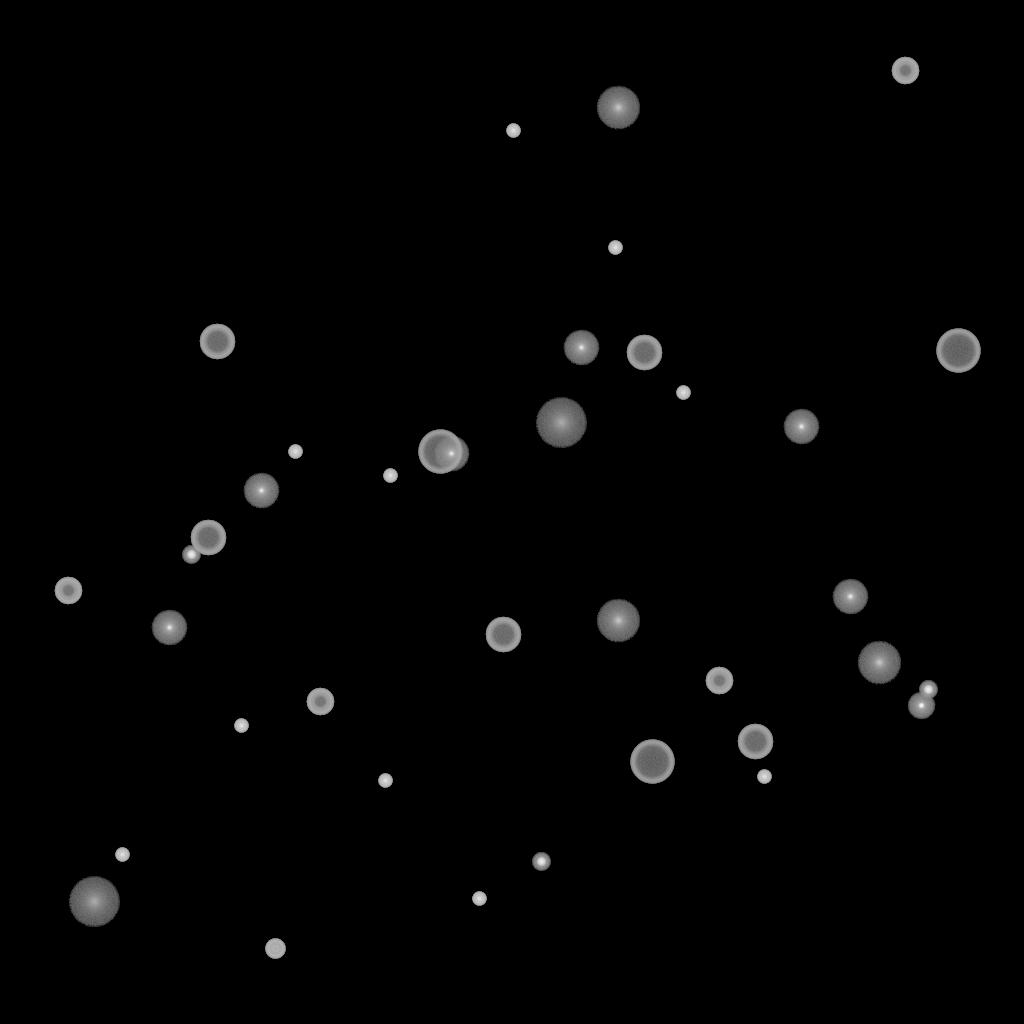depth:-10: (907, 692, 935, 720)
depth:-20: (919, 681, 937, 699), (182, 546, 200, 564), (532, 853, 550, 871)
depth:-30: (472, 892, 486, 906), (506, 124, 520, 138), (757, 770, 771, 784), (234, 719, 248, 733), (288, 445, 302, 459), (383, 469, 397, 483), (378, 774, 392, 788), (115, 848, 129, 862), (676, 386, 690, 400), (608, 241, 622, 255)
depth:-40: (265, 939, 285, 959)
depth:-50: (705, 667, 733, 695), (306, 688, 334, 716), (891, 57, 919, 85), (54, 577, 82, 605)
depth:-60: (737, 724, 773, 760), (485, 617, 521, 653), (626, 335, 662, 371), (199, 324, 235, 360), (190, 520, 226, 556)
depth:-70: (630, 740, 674, 784), (936, 329, 980, 373), (418, 430, 462, 474)
depth:0: (243, 473, 279, 509), (783, 409, 819, 445), (563, 330, 599, 366), (832, 579, 868, 615), (433, 436, 469, 472), (151, 610, 187, 646)
depth:10: (596, 599, 640, 643), (857, 641, 901, 685), (596, 86, 640, 130)
depth:20: (68, 877, 120, 927), (535, 398, 587, 448)
